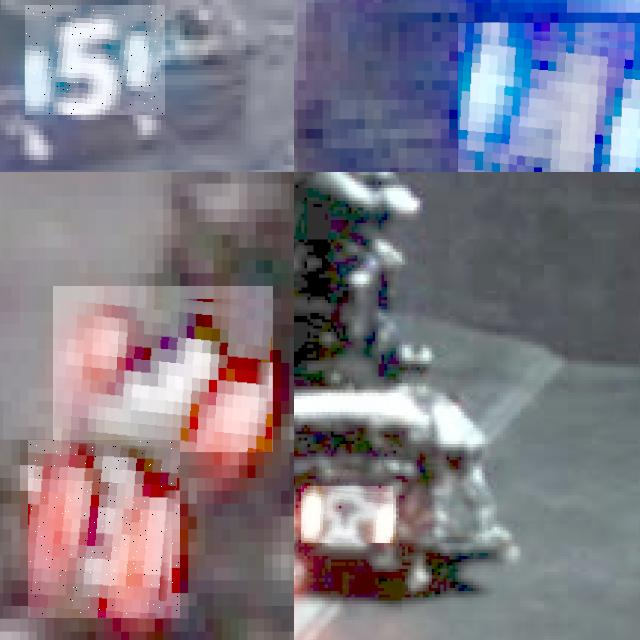B4: (457, 22, 640, 172)
B5: (25, 5, 165, 115)
R3: (53, 286, 273, 452), (28, 440, 180, 618)
Rs: (301, 486, 393, 543)
